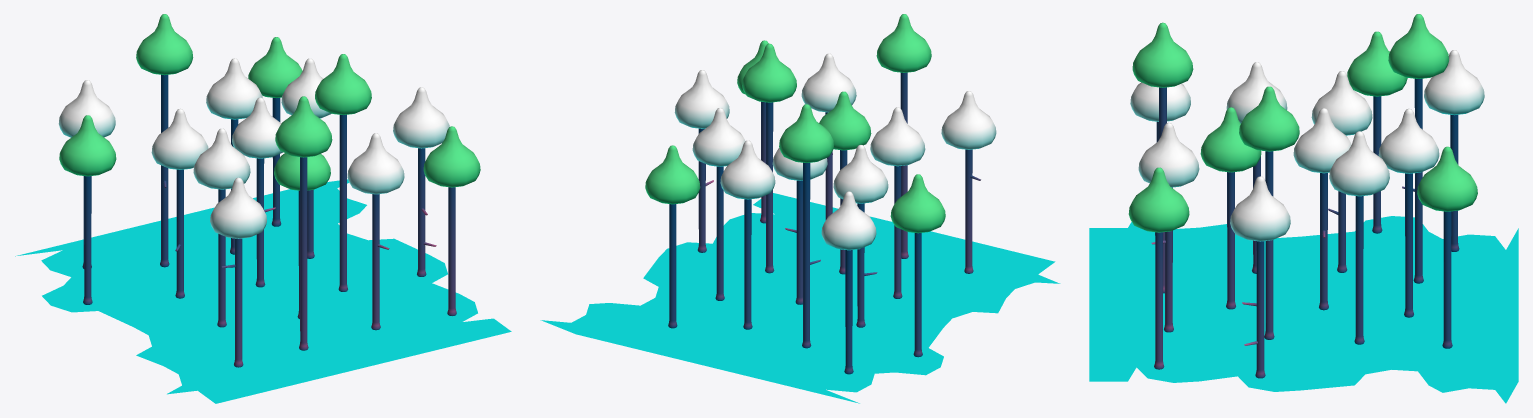
Rendered from Trees.fbx.
The picture shows the model from 3 angles, left to right: view 1: azimuth 30°, elevation 25°; view 2: azimuth 150°, elevation 25°; view 3: azimuth 270°, elevation 25°; orthographic projection. The views are drawn at different scales.
Parts seen in each view (by area): view 1: Trees; view 2: Trees; view 3: Trees.
Boxes of the visible parts, <box> form: Trees: <box>15,14,511,403</box>; Trees: <box>540,14,1060,403</box>; Trees: <box>1089,14,1518,403</box>.
Bounding box in the file's own units: 124 × 81.44 × 118.
